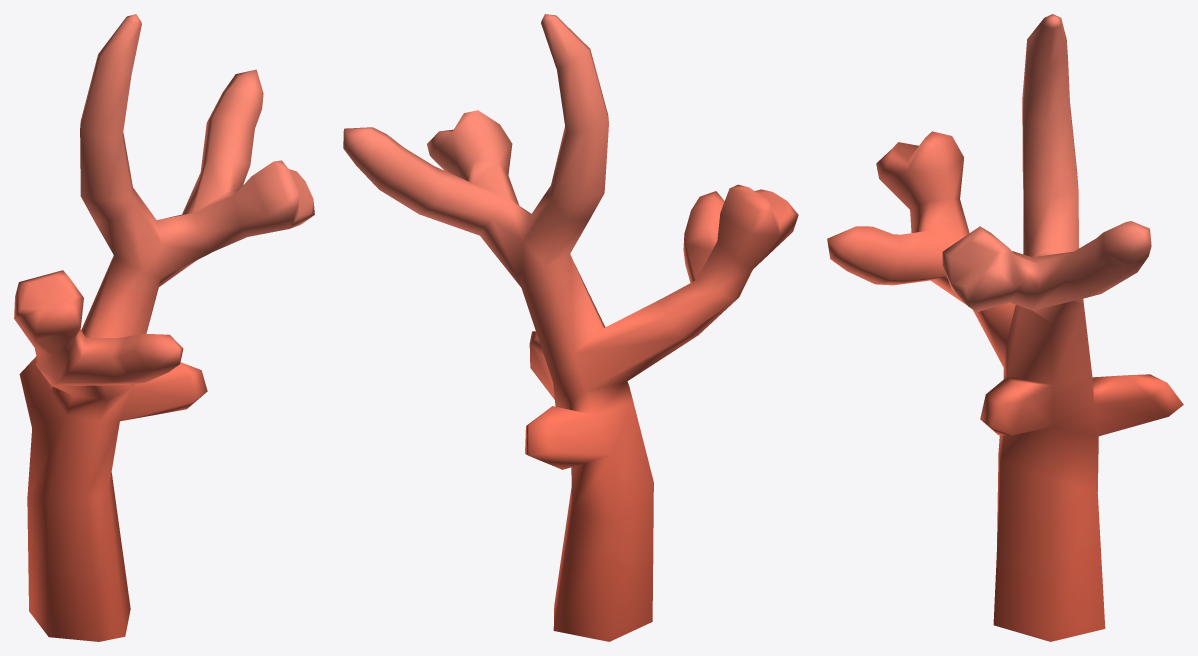
File: CoralMB.fbx
3 views of the same model, side by side, from view 1: azimuth 30°, elevation 25°; view 2: azimuth 150°, elevation 25°; view 3: azimuth 270°, elevation 25° (orthographic). The views are drawn at different scales.
Visible parts, largest first — view 1: CoralMB; view 2: CoralMB; view 3: CoralMB.
Part boxes in pixels (bbox=[...]): CoralMB: bbox=[14, 14, 314, 641]; CoralMB: bbox=[343, 14, 798, 641]; CoralMB: bbox=[827, 14, 1183, 641].
Size of the model in its own units: 33.22 by 55.28 by 28.45.
Materials: 1 (1 with a texture image).
